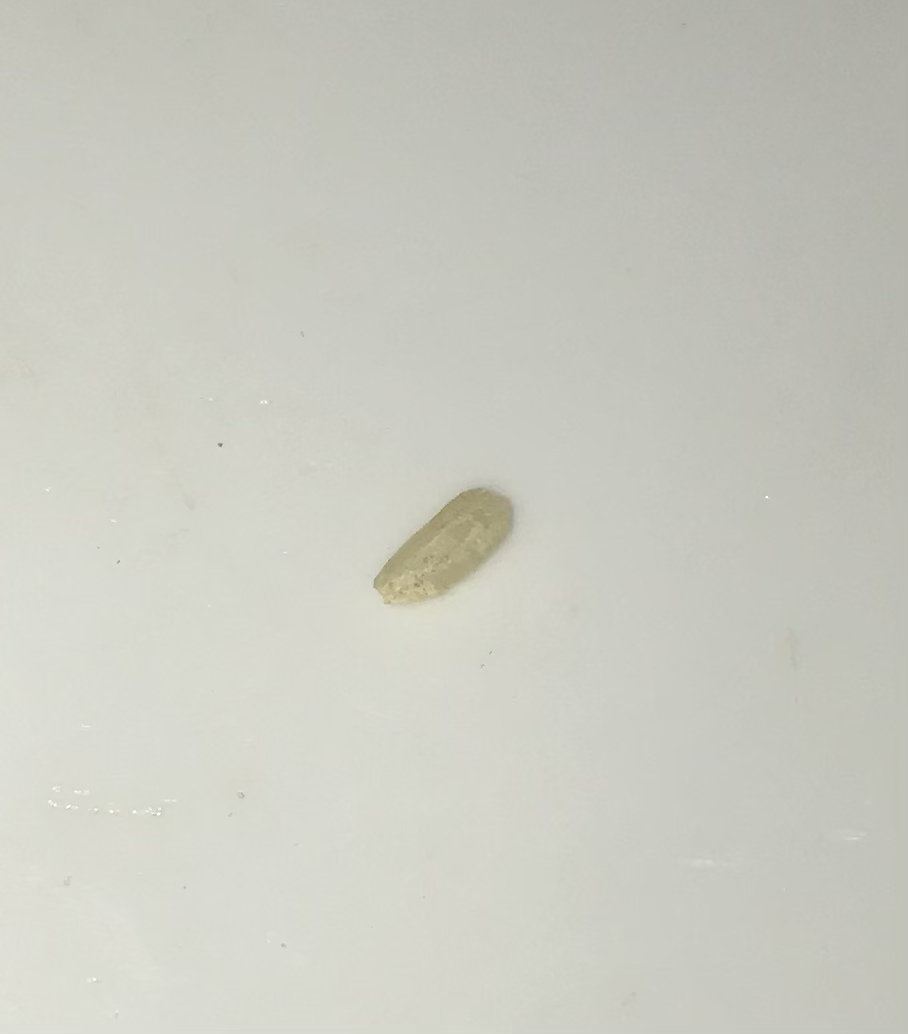Gao Lut Trang: (372, 464, 527, 634)
